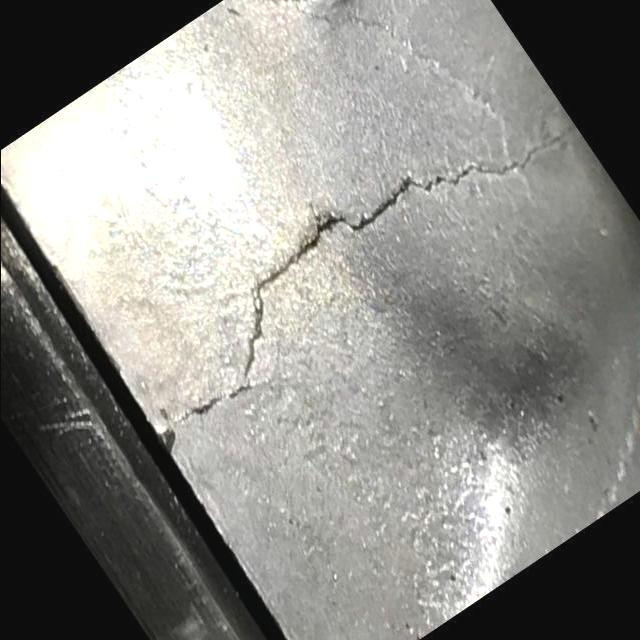defect: (160, 133, 578, 451)
